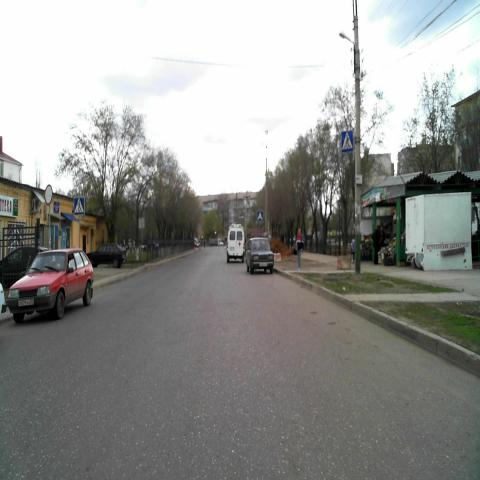3_2: (44, 184, 52, 204)
